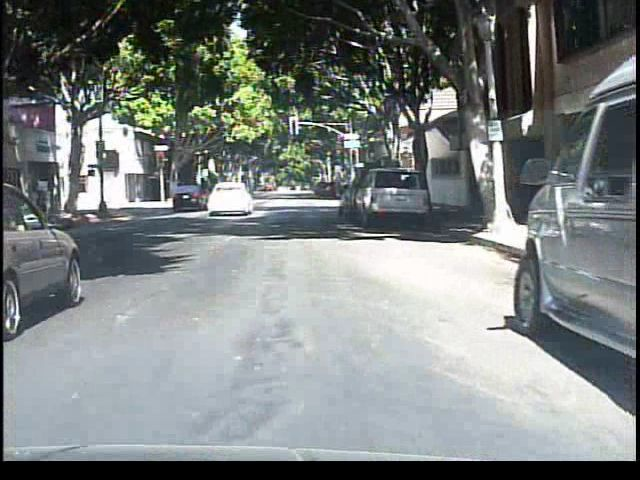person: (206, 170, 229, 211)
